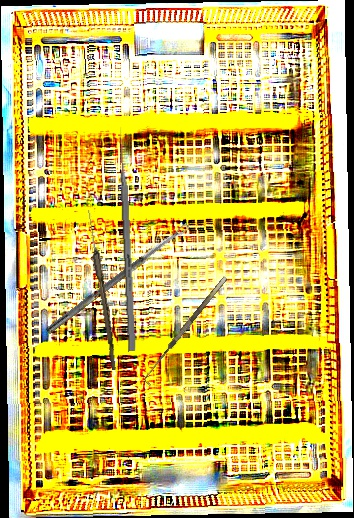Hook Surgical: (140, 275, 234, 387)
Pusher: (116, 126, 137, 352)
Surgical Spoon: (45, 222, 191, 336), (83, 209, 121, 371)
